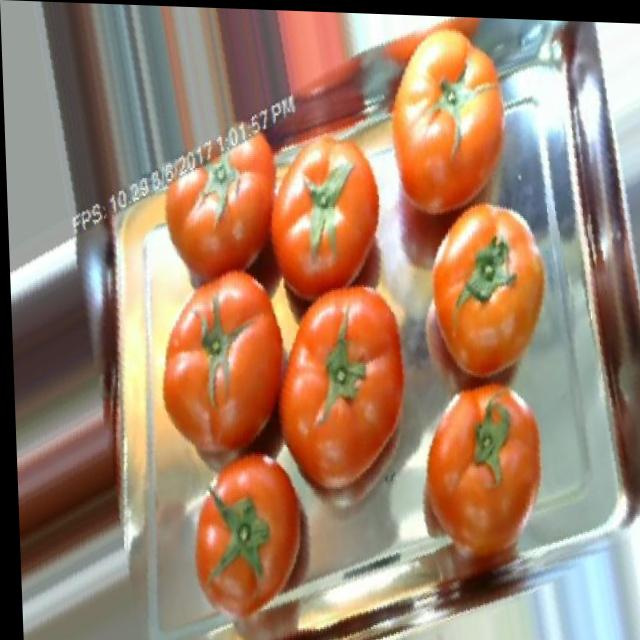sari: (151, 258, 434, 484)
